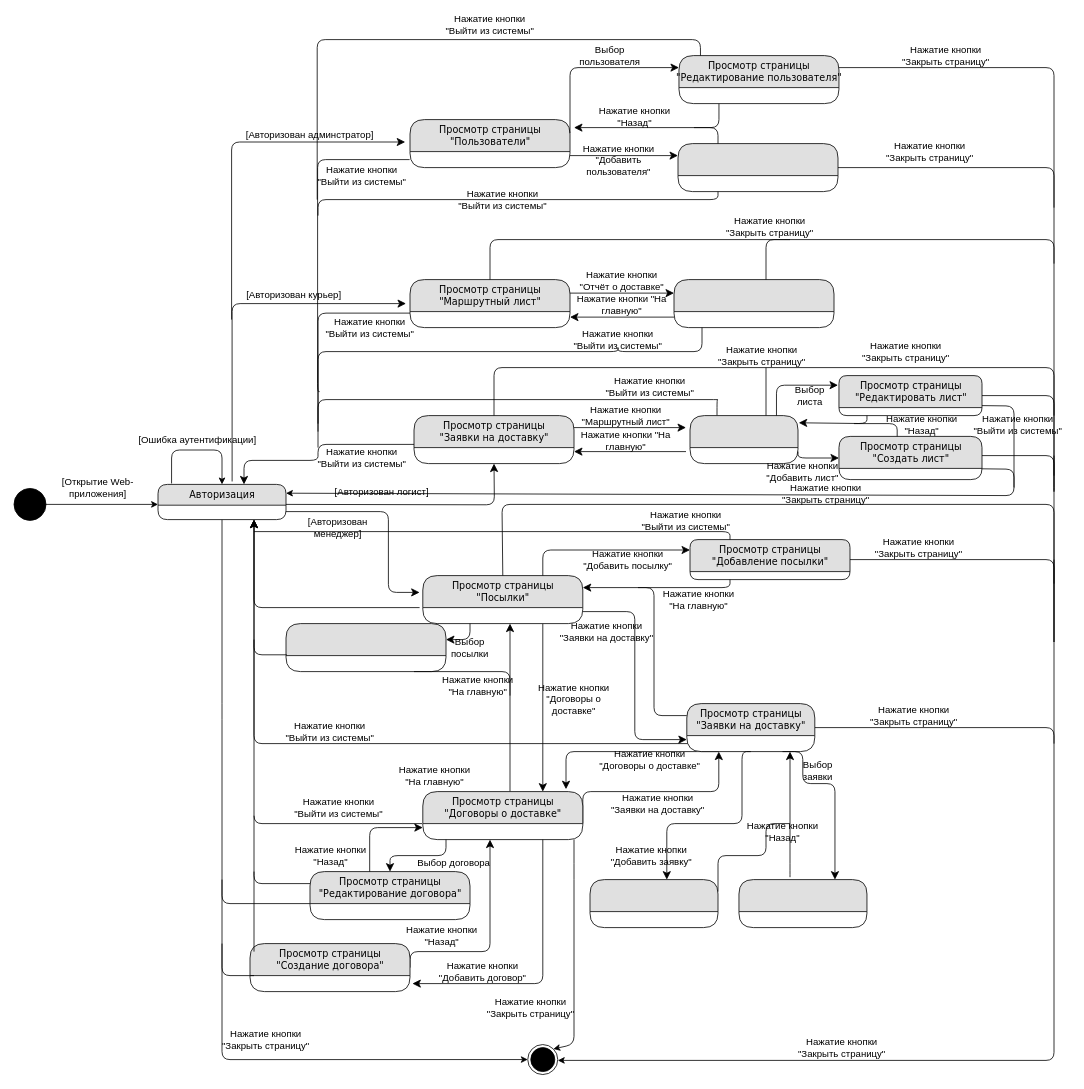
Image size: 1084x1089. Some labels were removed from this diagram. The shapes that lost their labels are listed below. From the top down, each one's box as (x1, y1, x2, y2) in pixels, then its label:
(677, 143, 838, 192): Просмотр страницы "Создание пользователя"
(673, 279, 834, 328): Просмотр страницы "Отчёт о доставке"
(689, 415, 798, 464): Просмотр страницы "Маршрутные листы"
(285, 623, 446, 672): Просмотр страницы "Редактирование посылки"
(589, 879, 718, 928): Просмотр страницы "Создание заявки"
(738, 879, 867, 928): Просмотр страницы "Редактирование заявки"
